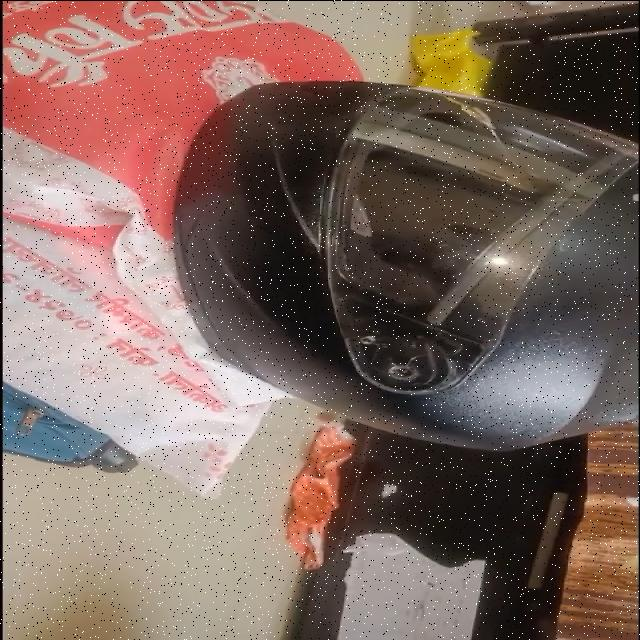Helmet: (172, 80, 637, 451)
